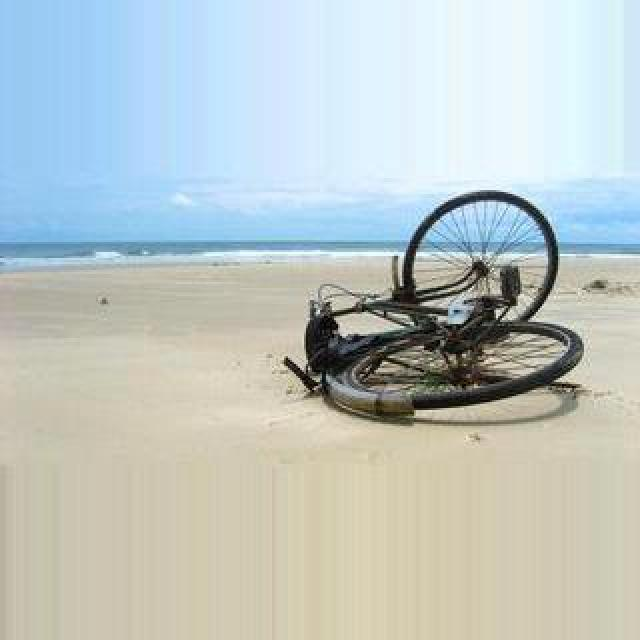Person: (282, 186, 584, 420)
